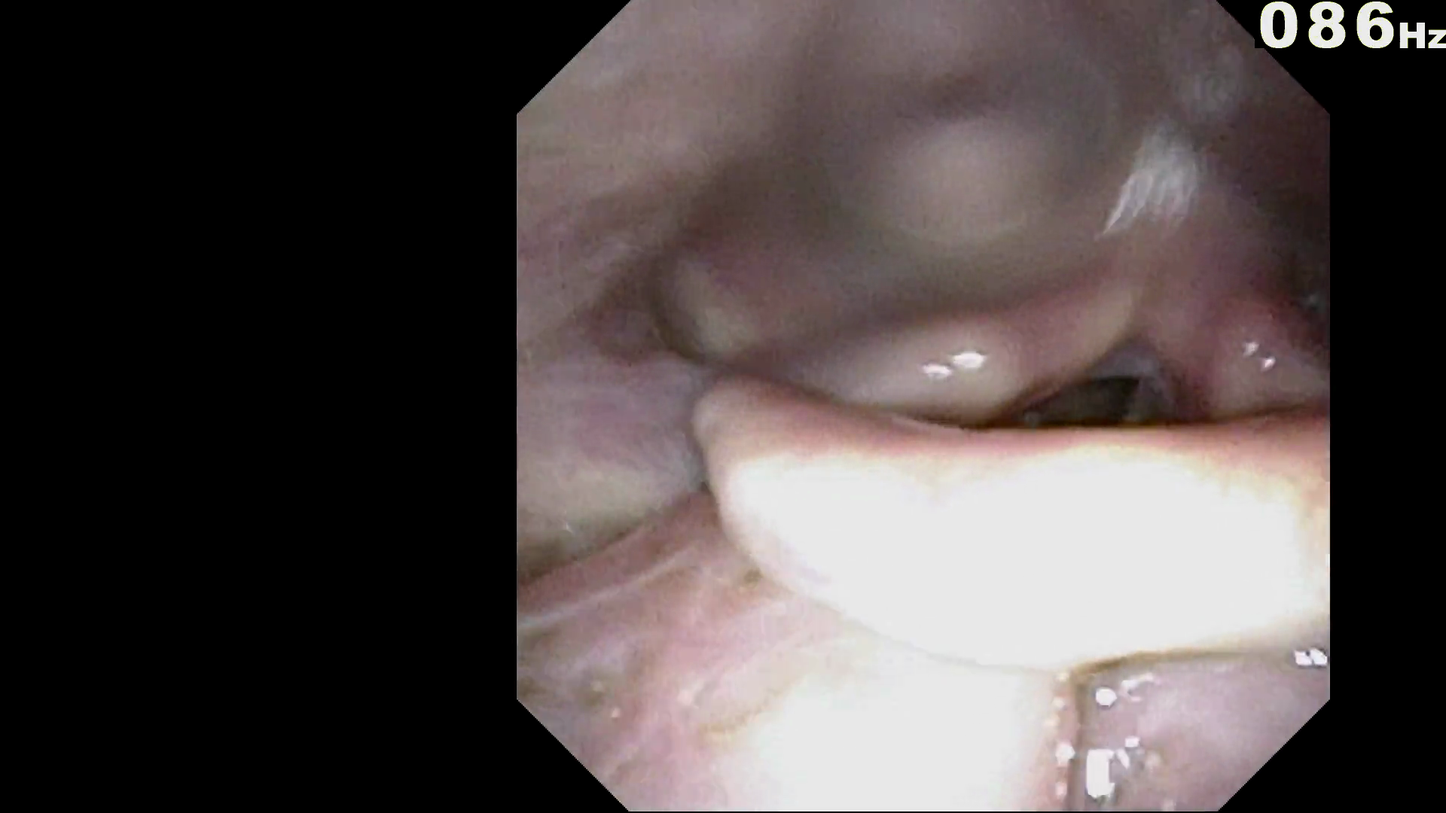epiglottis: (749, 395, 1306, 620)
trachea: (1048, 370, 1150, 455)
